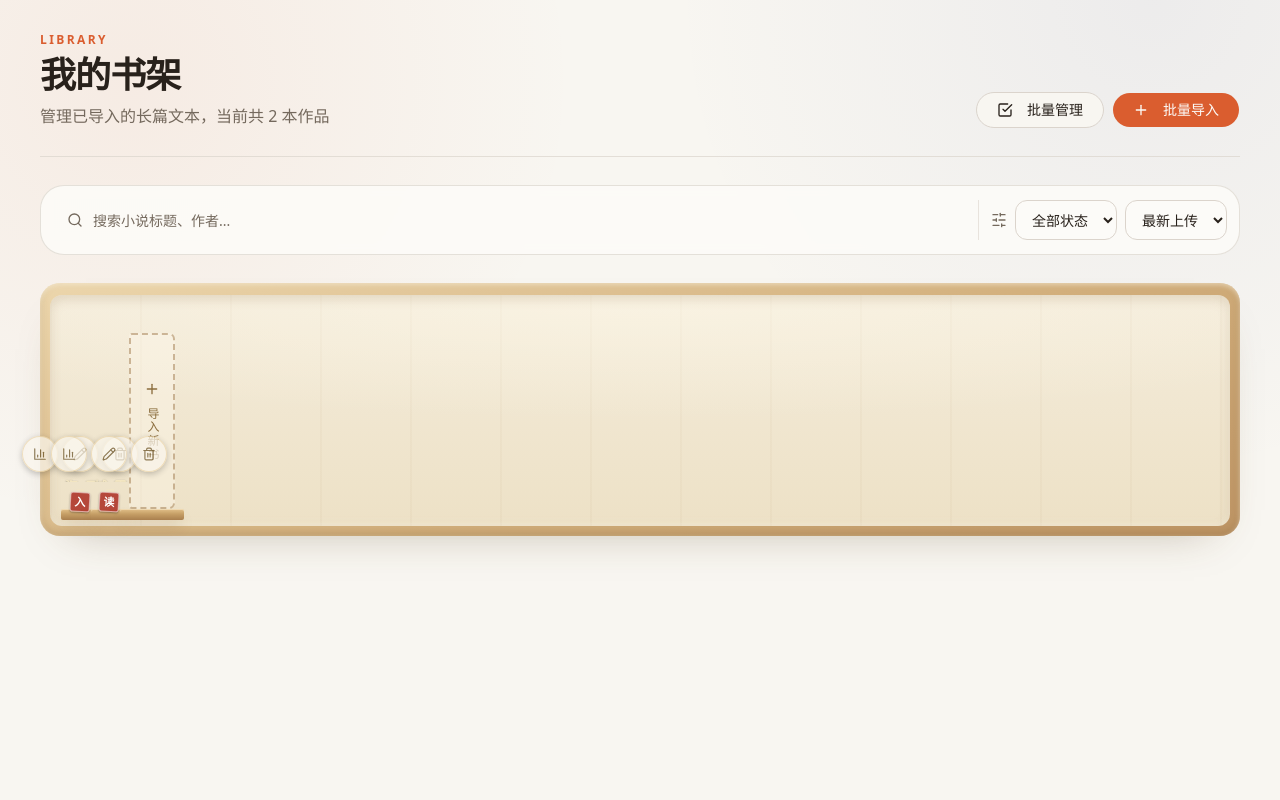
Test: NovelsPage › 筛选无结果展示提示
In the field with placeholder "搜索小说标题、作者...": (510, 220) [53,198,966,242], type "不存在的小说"
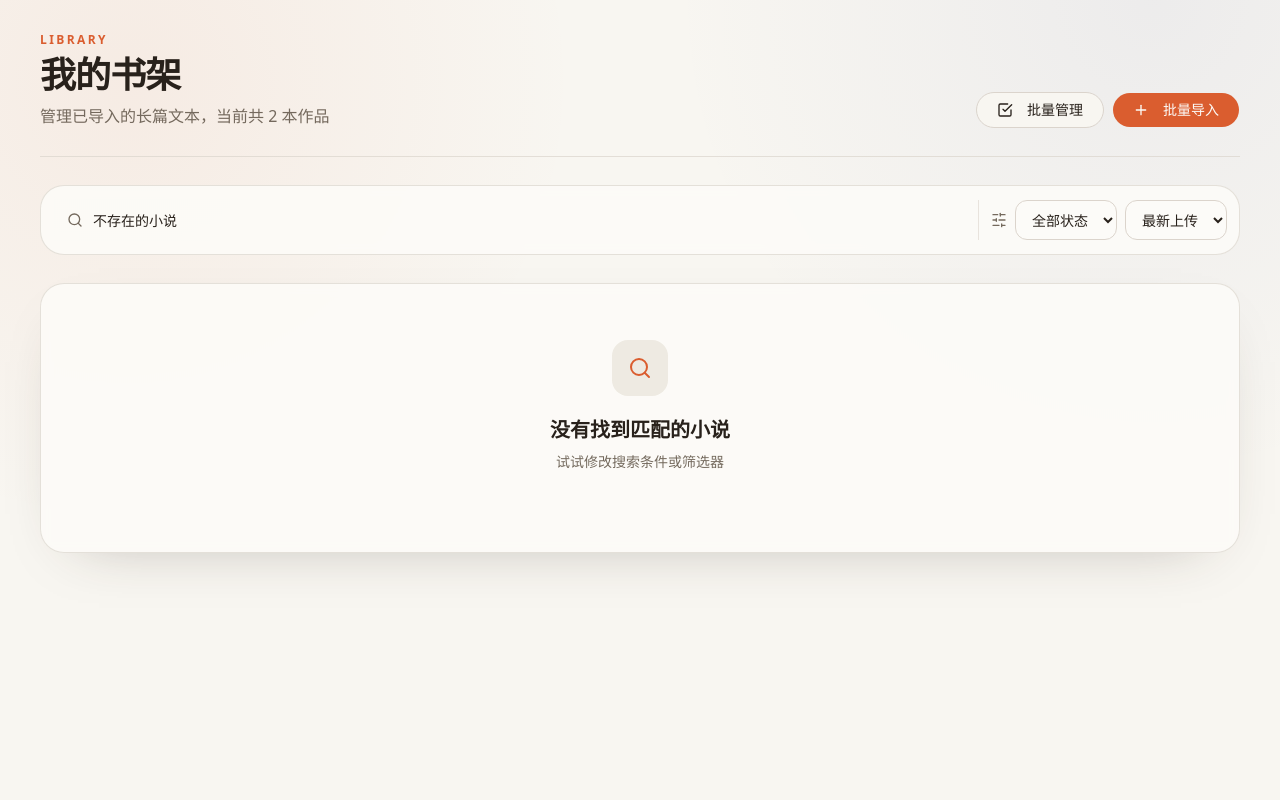
Check: the heading "没有找到匹配的小说" is shown, box [550,416,730,444]
